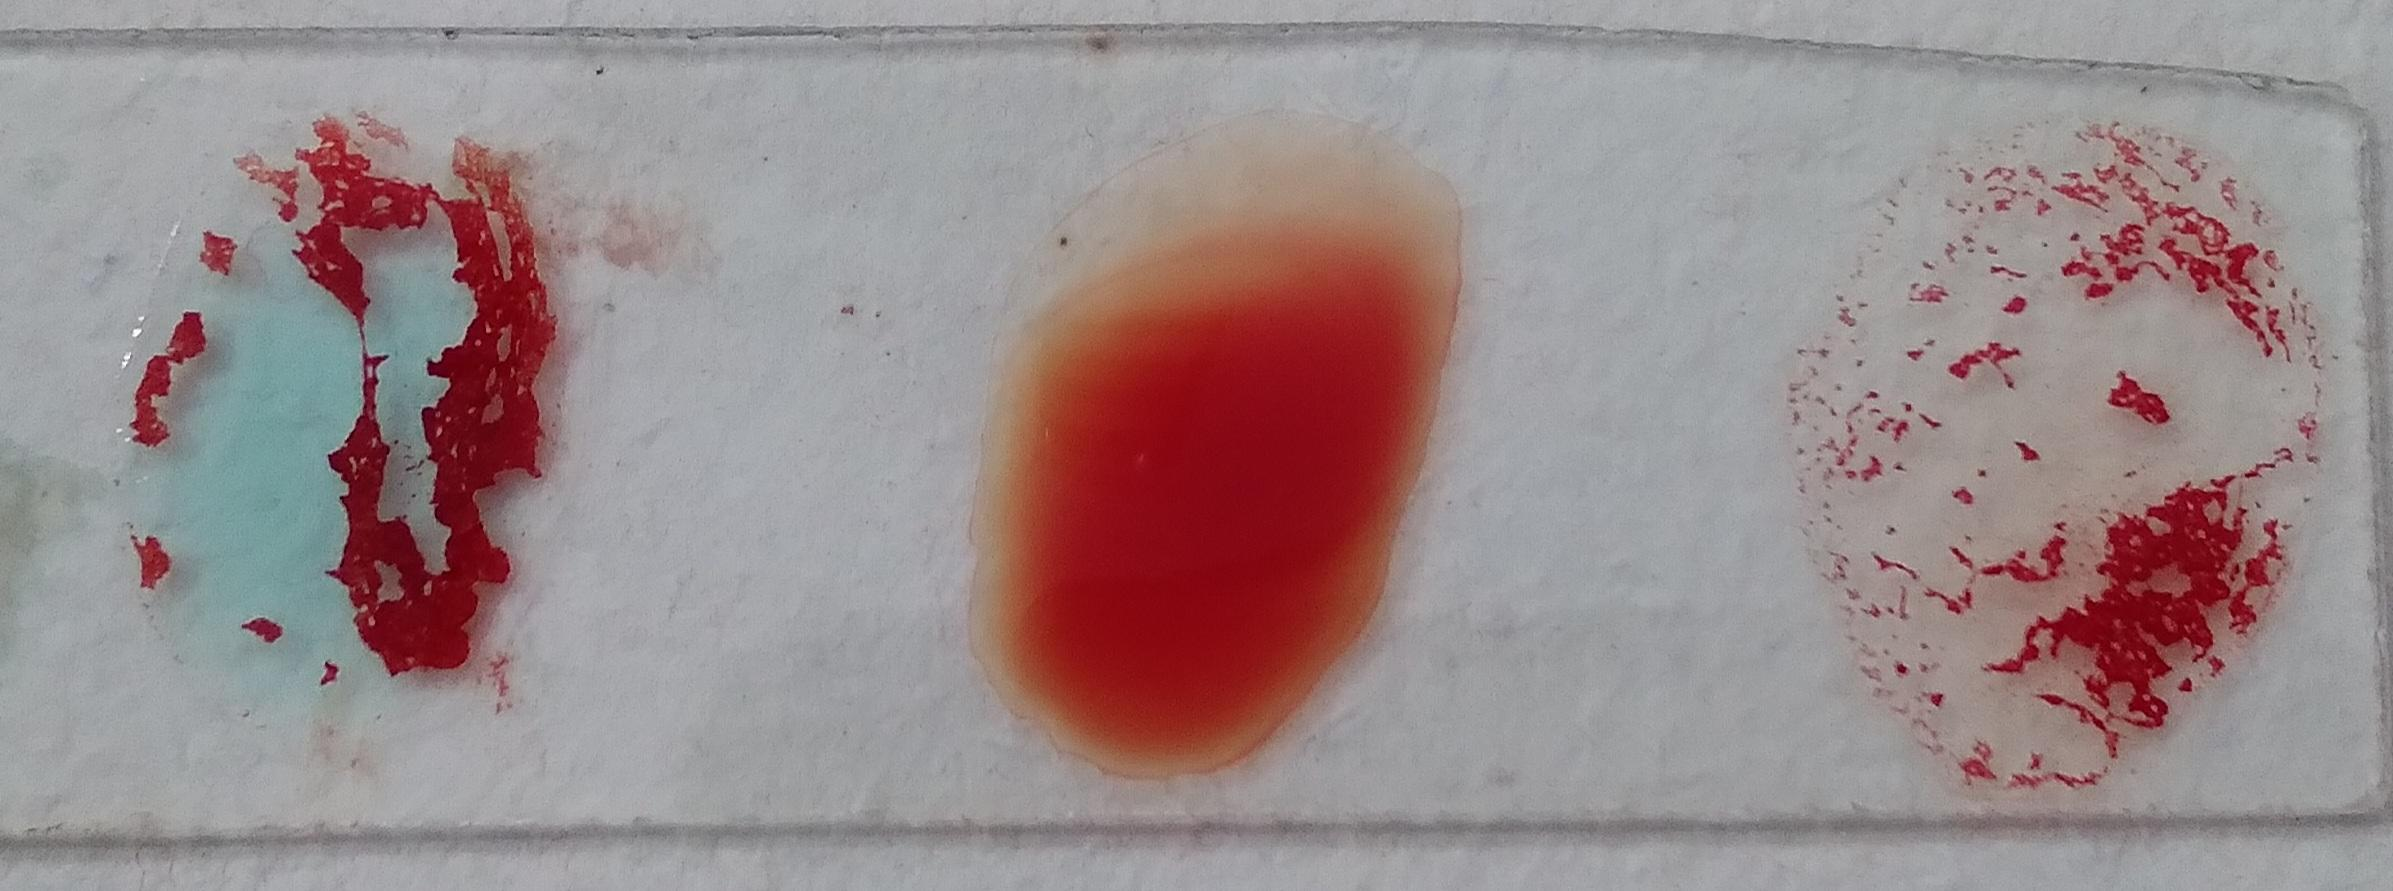A: (1848, 160, 2283, 763)
D: (89, 108, 592, 760)
